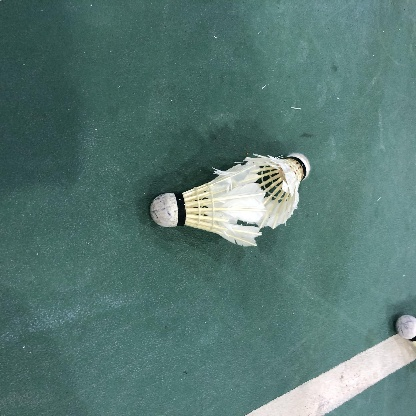ball_single: (150, 163, 266, 247), (242, 153, 310, 228), (395, 315, 416, 349)
